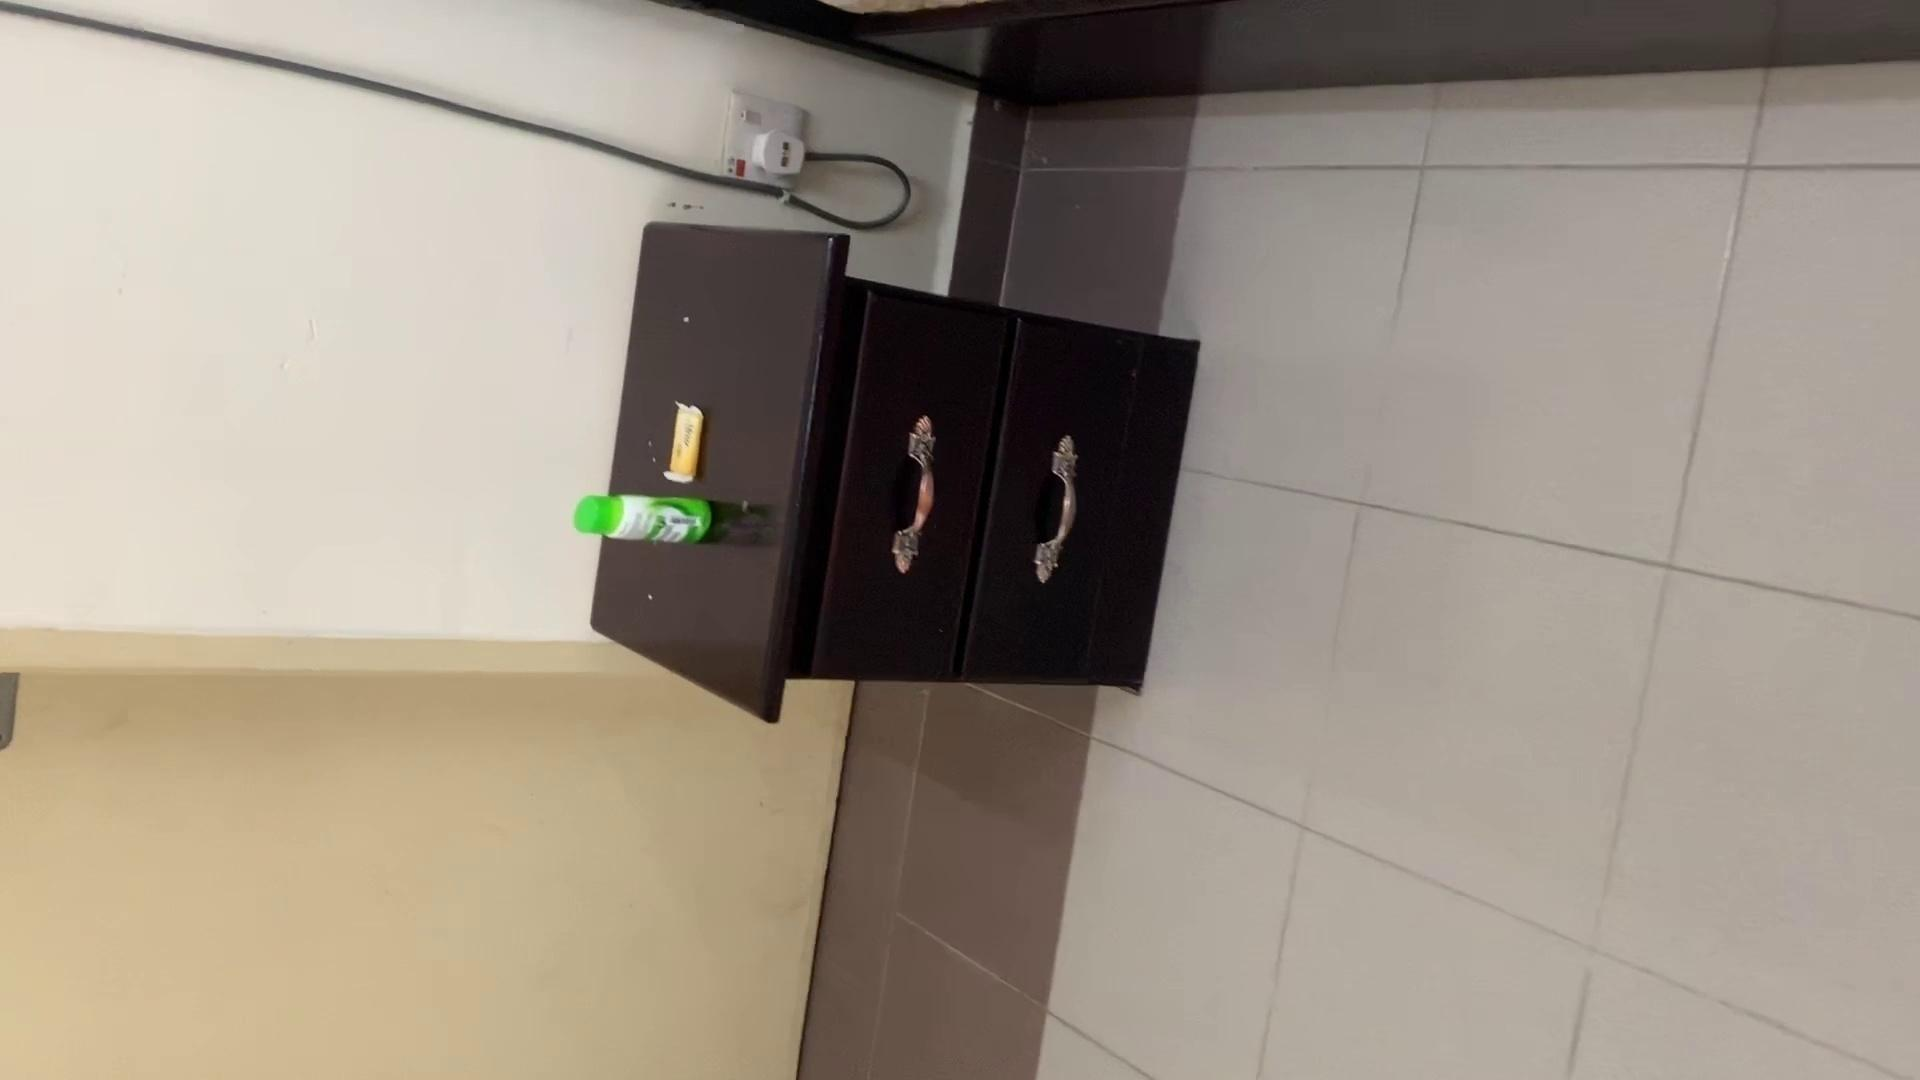cabinet_door: (832, 306, 990, 671), (1006, 323, 1137, 675)
handle: (1027, 427, 1097, 588), (884, 410, 949, 580)
